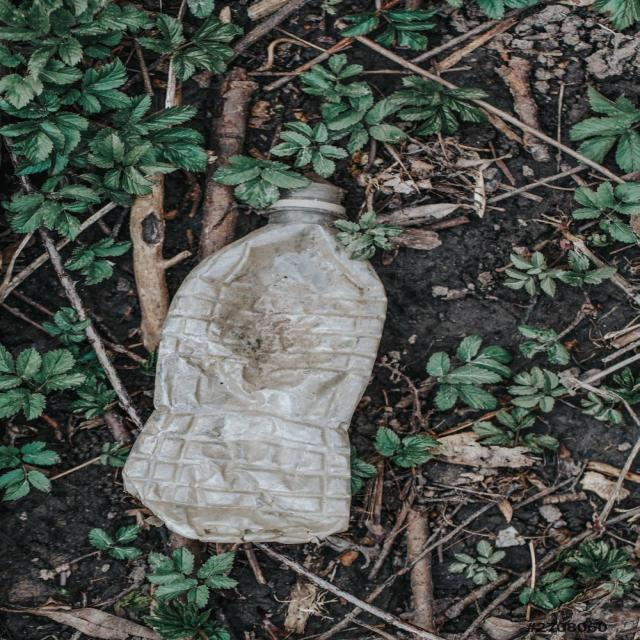bottle: (116, 173, 397, 557)
